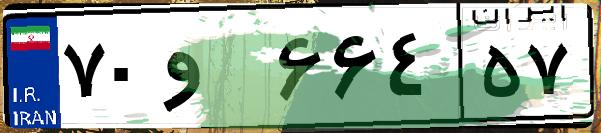0: (110, 28, 158, 98)
4: (385, 28, 445, 110)
5: (475, 38, 525, 113)
6: (270, 28, 330, 110), (330, 28, 385, 110)
7: (57, 26, 110, 100), (525, 38, 570, 115)
و: (158, 20, 270, 120)
